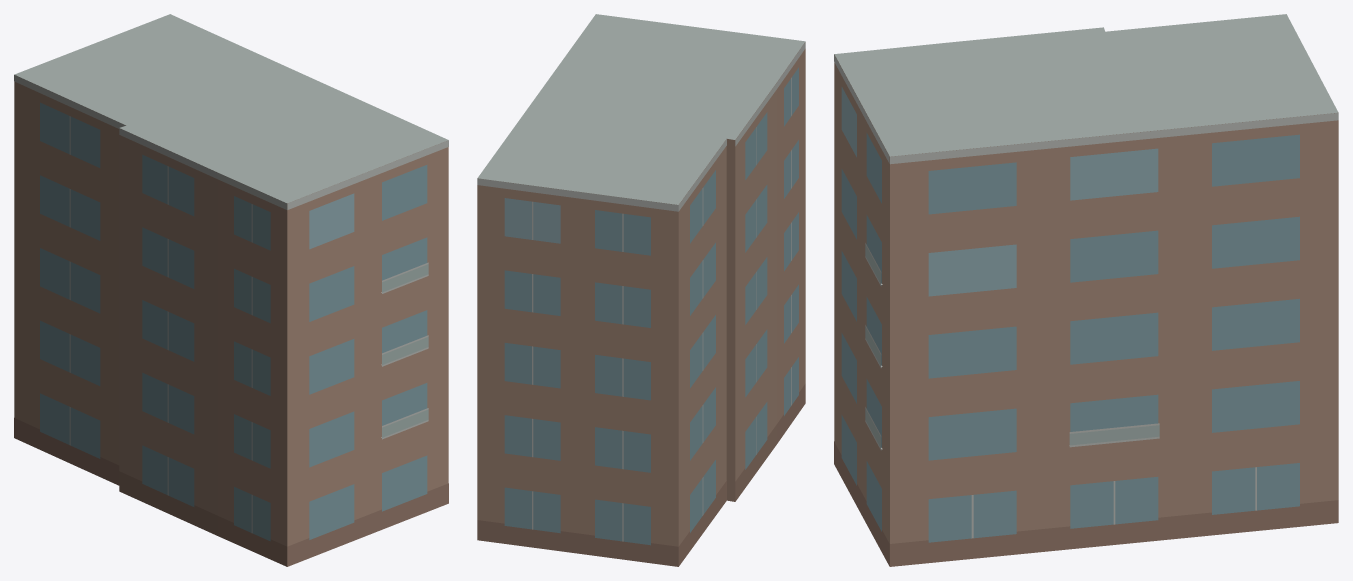
File: survey-upis-32587564.glb
3 renders of one model, left to right at view 1: azimuth 30°, elevation 25°; view 2: azimuth 150°, elevation 25°; view 3: azimuth 270°, elevation 25°, orthographic. The views are drawn at different scales.
Visible parts, largest first — view 1: survey-upis-32587564.tmp; view 2: survey-upis-32587564.tmp; view 3: survey-upis-32587564.tmp.
Part boxes in pixels (<box>): survey-upis-32587564.tmp: <box>14,14,448,566</box>; survey-upis-32587564.tmp: <box>477,14,805,566</box>; survey-upis-32587564.tmp: <box>834,14,1338,566</box>.
Bounding box in the file's own units: 9.74 × 13.05 × 14.55.
